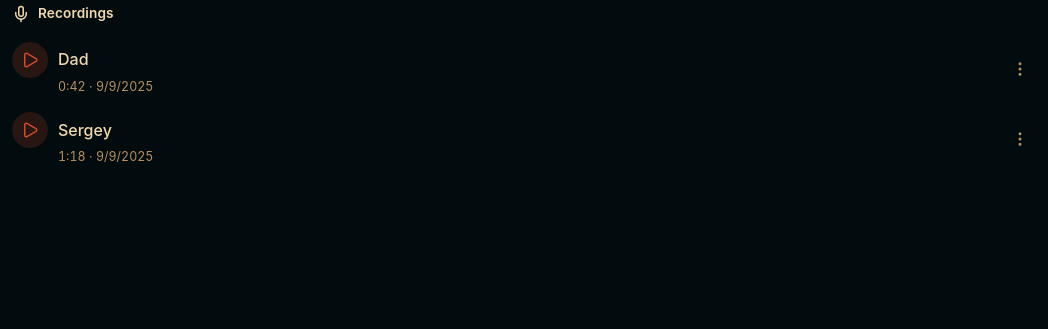
Scenario: VoiceNotes shared player › loads the chosen recording into the one player, and swaps it for the next
Click the button named "Play the recording by Dad" at coordinates (30, 60), box [12,42,48,78]
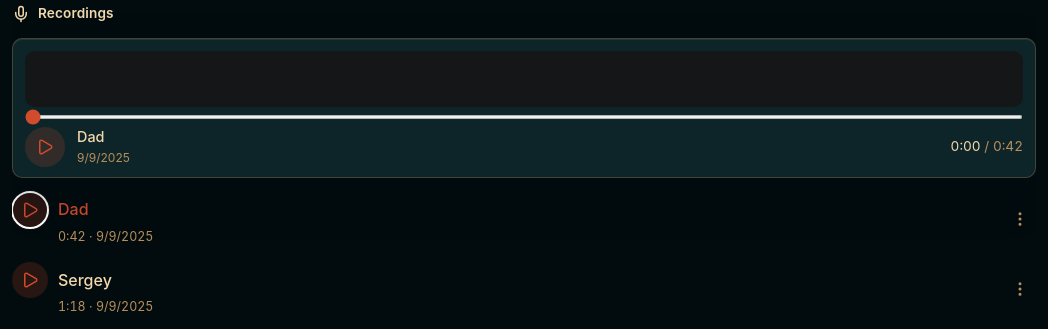
Expected: the text "Dad" is shown, [77,128,104,145]
Click the button named "Play the recording by Sergey" at coordinates (30, 280), box [12,262,48,298]
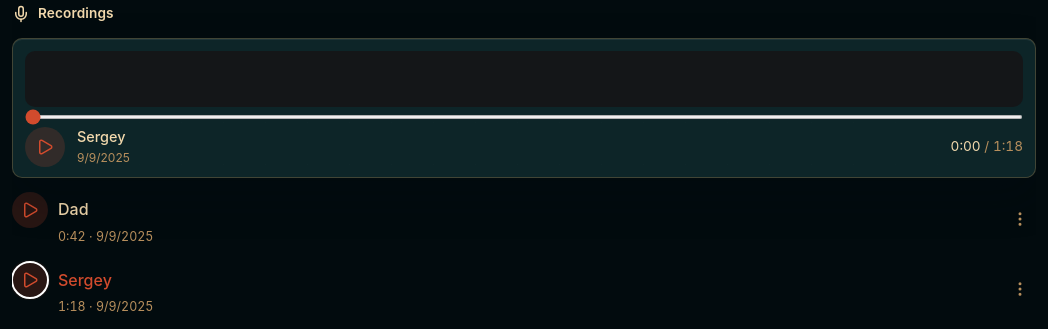
Expected: the element named "Now playing: Sergey" is shown, [12,38,1036,178]
